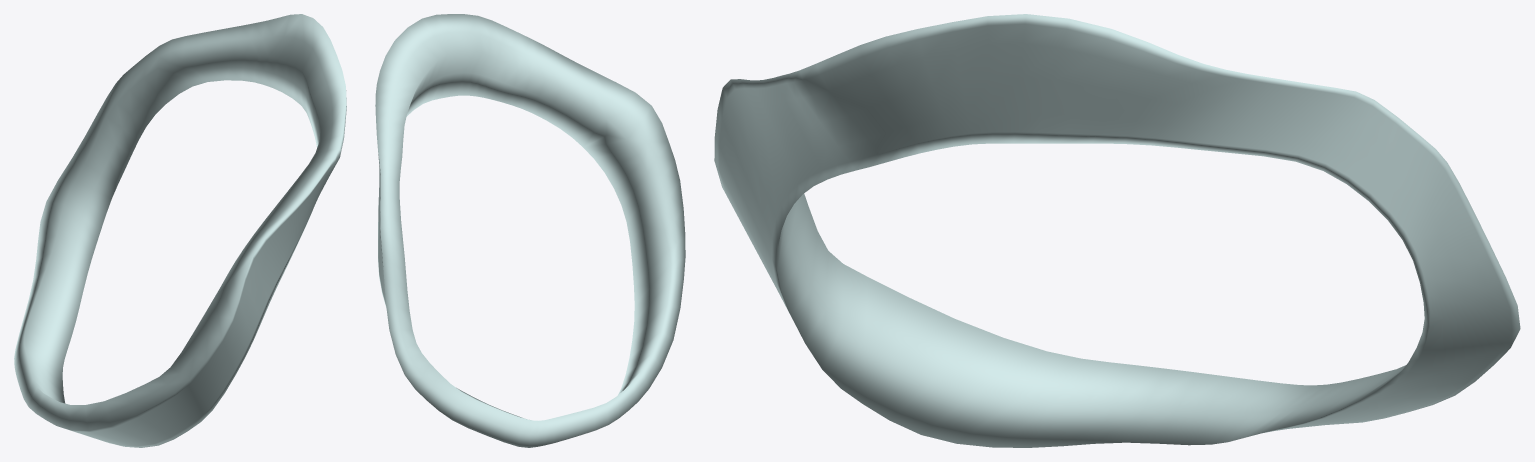
File: Acetabular_labrum.l_Generated_Mesh_From_X3D.120.glb
The picture shows the model from 3 angles, left to right: view 1: azimuth 30°, elevation 25°; view 2: azimuth 150°, elevation 25°; view 3: azimuth 270°, elevation 25°; orthographic projection. The views are drawn at different scales.
Visible parts, largest first — view 1: Acetabular_labrum.l_Generated_Mesh_From_X3D.120; view 2: Acetabular_labrum.l_Generated_Mesh_From_X3D.120; view 3: Acetabular_labrum.l_Generated_Mesh_From_X3D.120.
Part boxes in pixels (x1=…): Acetabular_labrum.l_Generated_Mesh_From_X3D.120: x1=14, y1=14, x2=346, y2=447; Acetabular_labrum.l_Generated_Mesh_From_X3D.120: x1=375, y1=14, x2=685, y2=447; Acetabular_labrum.l_Generated_Mesh_From_X3D.120: x1=714, y1=14, x2=1520, y2=447.
Size of the model in its own units: 0.0353 by 0.0478 by 0.0573.
